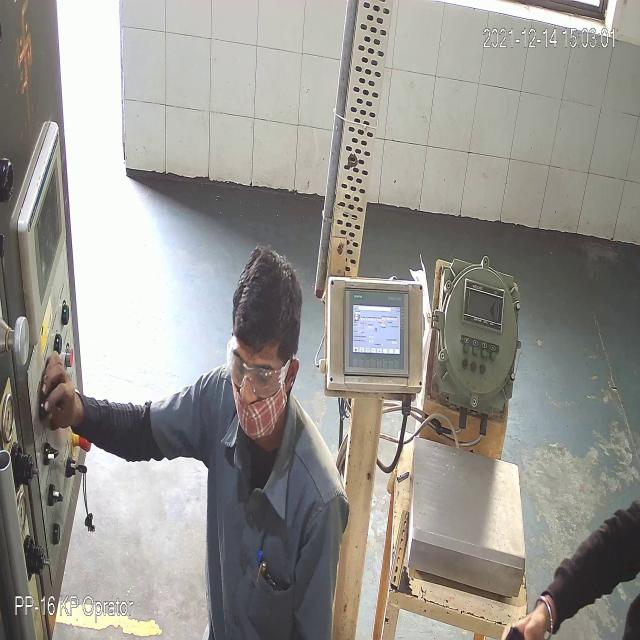glasses: (226, 350, 292, 397)
